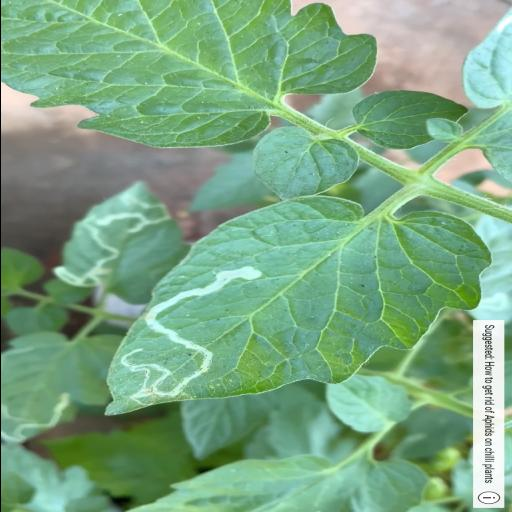Healthy: (0, 0, 378, 150), (248, 127, 362, 201)
Leaf Miner: (102, 194, 494, 416), (52, 179, 190, 305), (0, 332, 124, 446)
